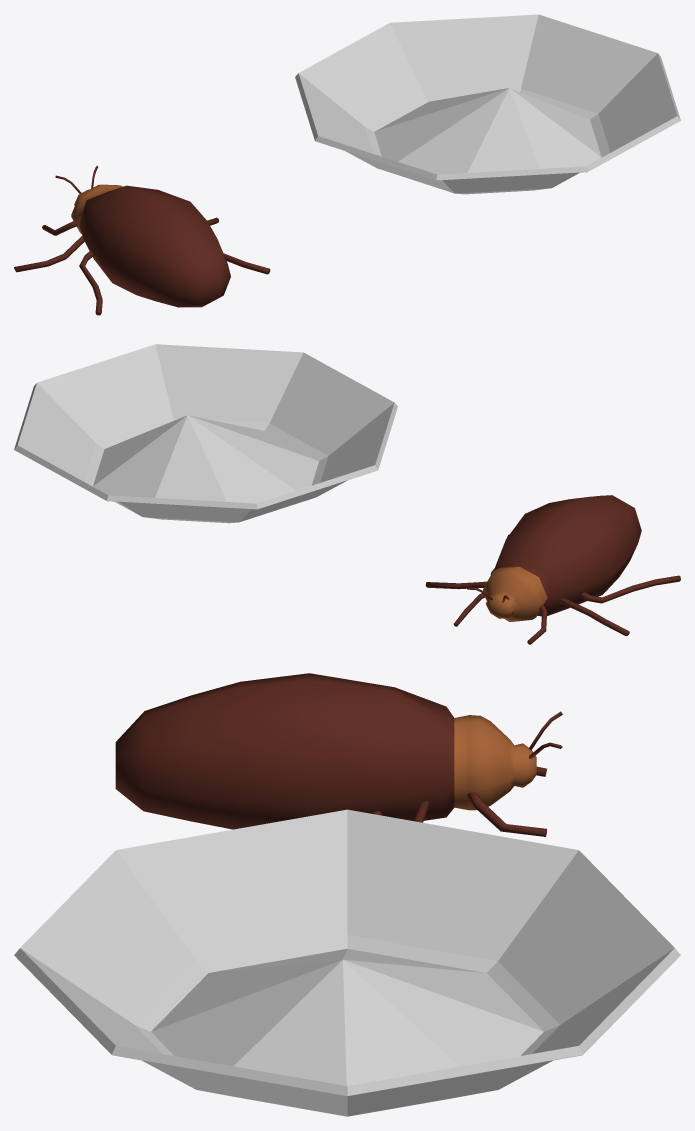
Rendered from linux najgorszy.fbx.
3 renders of one model, top to bottom at view 1: azimuth 30°, elevation 25°; view 2: azimuth 150°, elevation 25°; view 3: azimuth 270°, elevation 25°, orthographic. The views are drawn at different scales.
Parts seen in each view (by area): view 1: Circle, Cone, Cube, Cylinder.003, Cylinder.002; view 2: Circle, Cone, Cube, Cylinder.002, Cylinder.003, Cylinder.001; view 3: Circle, Cube, Cone, Cylinder.001.
Part boxes in pixels (left/top/right/bottom): Circle: left=295, top=14, right=680, bottom=194; Cone: left=374, top=88, right=601, bottom=174; Cube: left=71, top=184, right=230, bottom=307; Cylinder.003: left=79, top=250, right=270, bottom=315; Cylinder.002: left=14, top=217, right=218, bottom=272; Circle: left=14, top=344, right=397, bottom=523; Cone: left=93, top=415, right=318, bottom=503; Cube: left=483, top=495, right=641, bottom=621; Cylinder.002: left=425, top=581, right=629, bottom=635; Cylinder.003: left=490, top=535, right=680, bottom=603; Cylinder.001: left=453, top=593, right=547, bottom=644; Circle: left=14, top=809, right=680, bottom=1116; Cube: left=115, top=673, right=536, bottom=829; Cone: left=151, top=948, right=543, bottom=1086; Cylinder.001: left=467, top=766, right=547, bottom=836.
Size of the model in its own units: 182 by 27.28 by 101.
